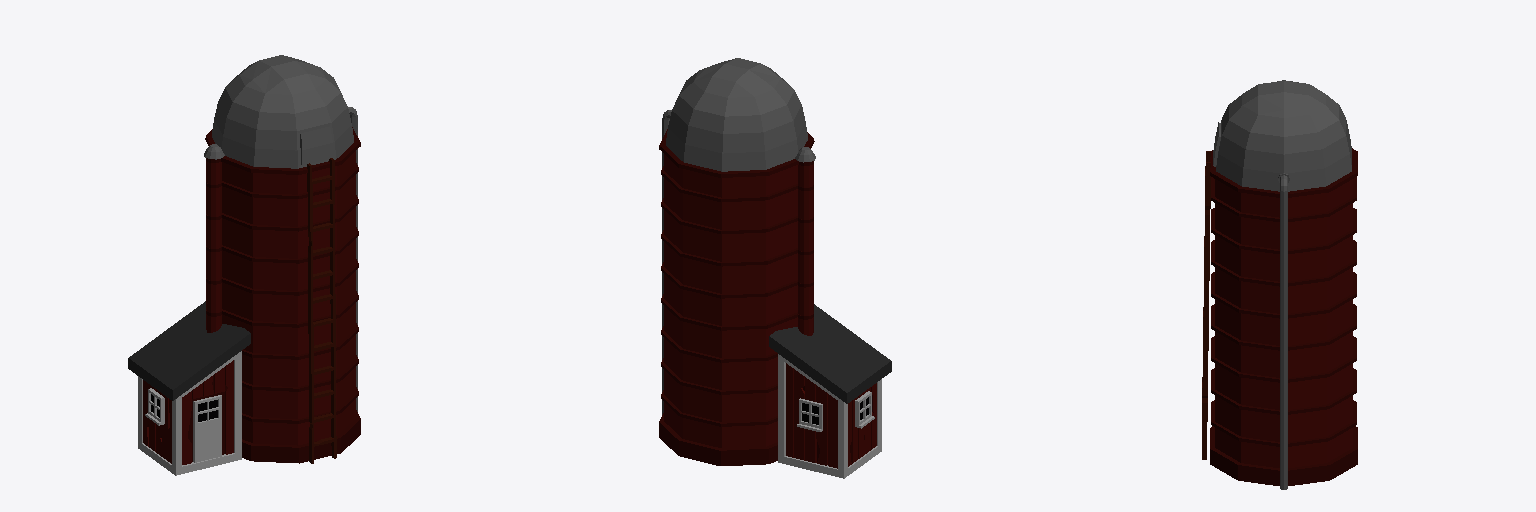
File: Silo_House.obj
3 views of the same model, side by side, from view 1: azimuth 30°, elevation 25°; view 2: azimuth 150°, elevation 25°; view 3: azimuth 270°, elevation 25° (orthographic).
Parts seen in each view (by area): view 1: Silo_House_Cylinder.003; view 2: Silo_House_Cylinder.003; view 3: Silo_House_Cylinder.003.
Boxes of the visible parts, x1,y1,x2,y2 form: Silo_House_Cylinder.003: [128, 55, 360, 475]; Silo_House_Cylinder.003: [659, 58, 891, 478]; Silo_House_Cylinder.003: [1202, 80, 1357, 489].
Bounding box in the file's own units: 5.34 × 9.07 × 3.51.